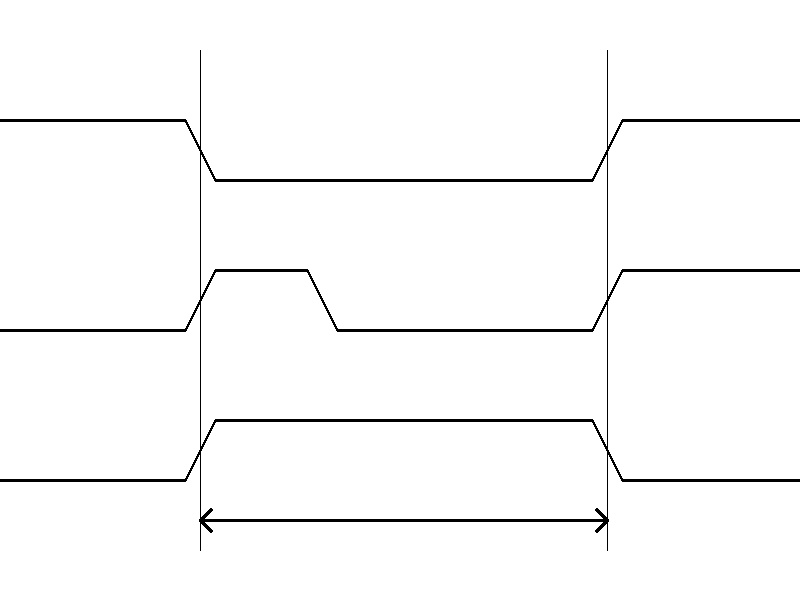double_arrow: (200, 505, 607, 535)
